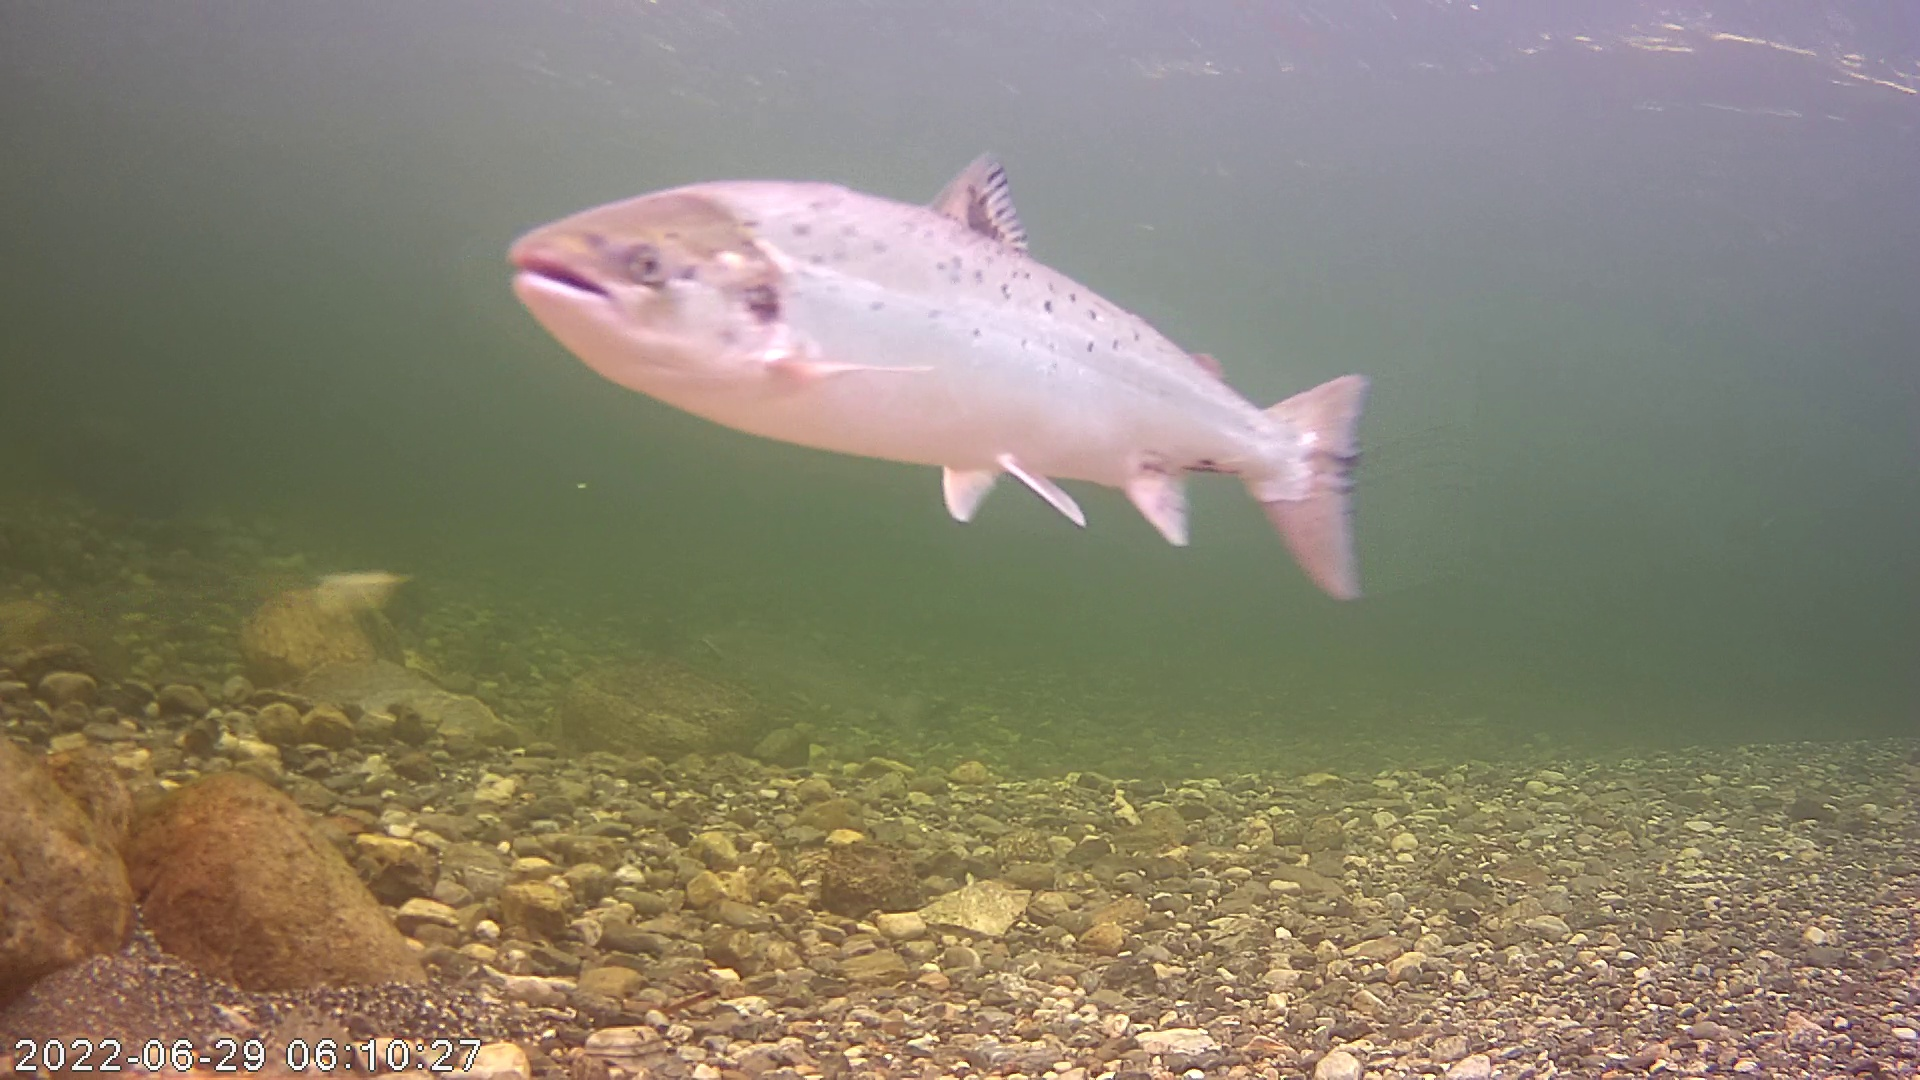salmon: (491, 65, 1381, 642)
